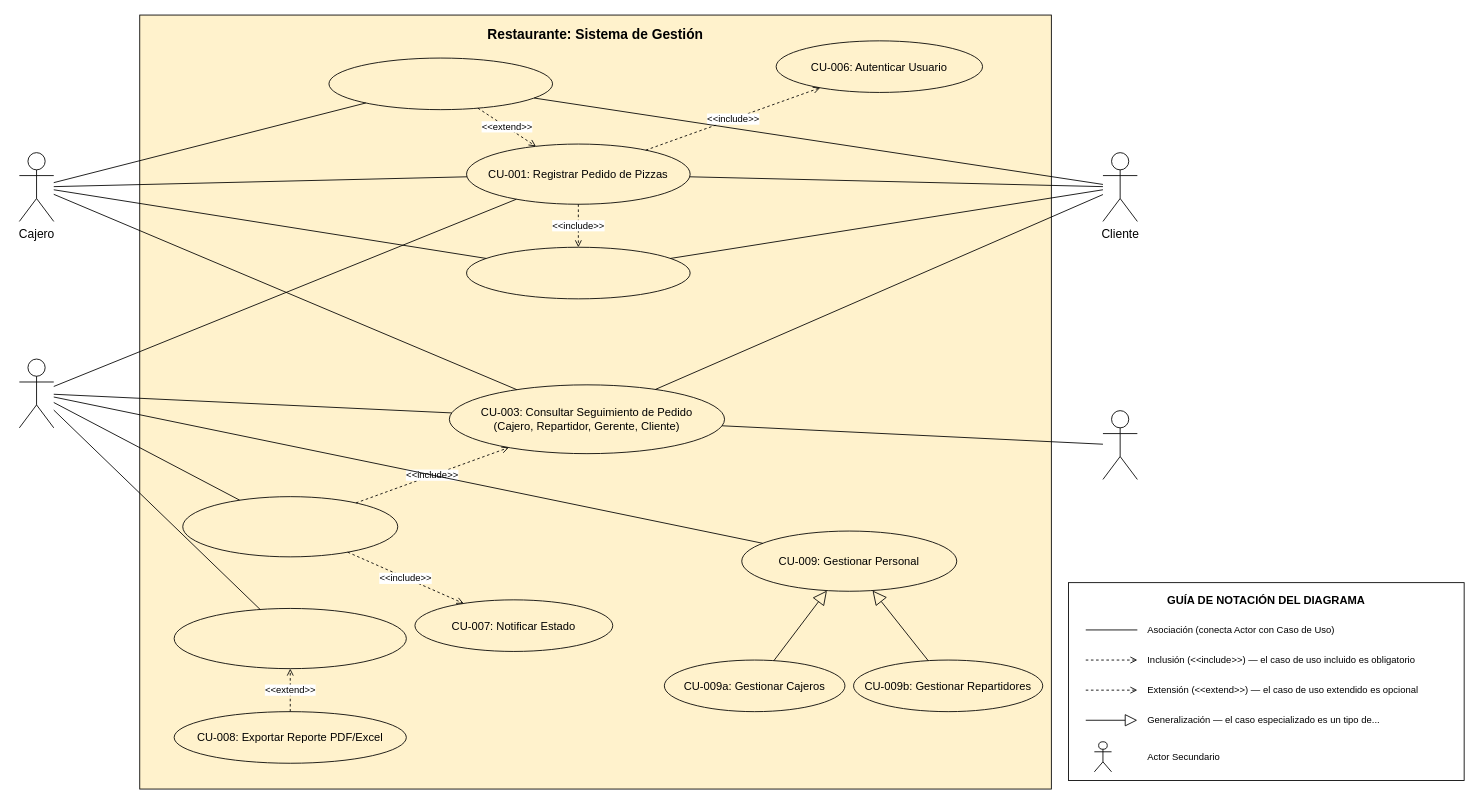
Image size: 1479x804. Some labels were removed from this diagram. Each missing label, with the centre of its shape:
"CU-002: Asignar Repartidor a Pedido" belongs at (290,526).
"CU-004: Generar Reporte de Desempeño Operativo" belongs at (289,638).
"CU-005: Registrar Perfil de Cliente" belongs at (440,83).
"CU-010: Consultar Menú Digital" belongs at (578,272).
"Gerente" belongs at (36,393).
"Repartidor" belongs at (1119,444).
